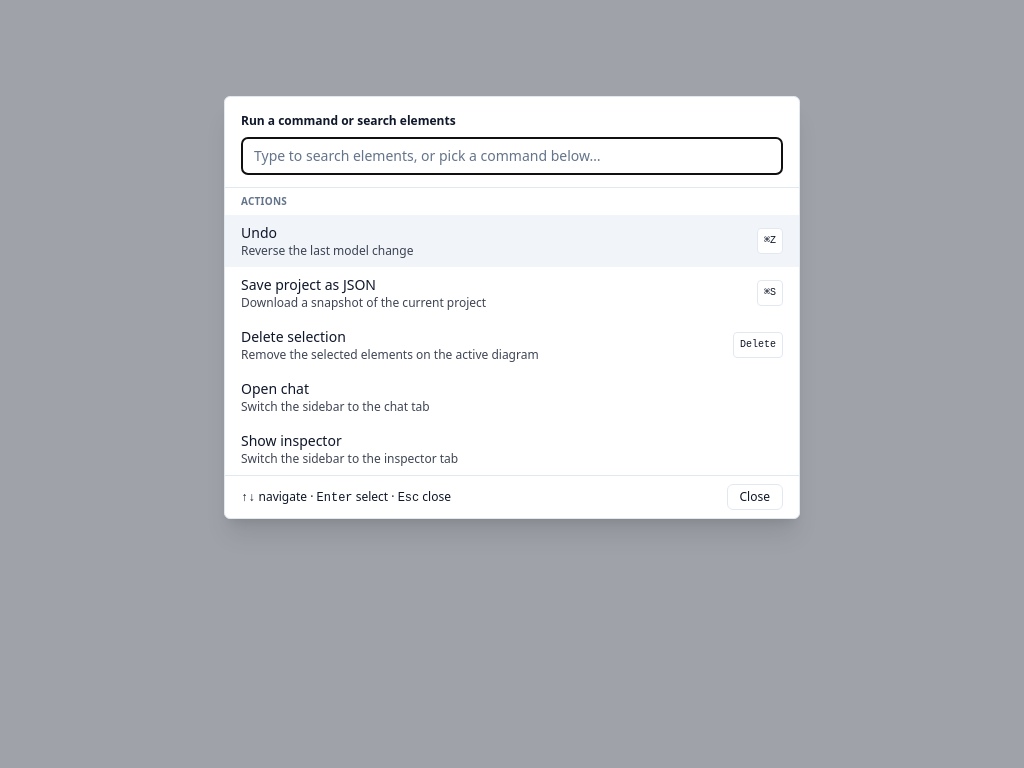
Test: <CommandPalette /> (T-13.05a/b) › typing "IBD" surfaces the selection-scoped IBD command in the unified ranked list
The width and height of the screenshot is (1024, 768).
Type "IBD" into the dropdown with test id "command-palette-input" at {"x": 512, "y": 156}, box [241,137,783,175]
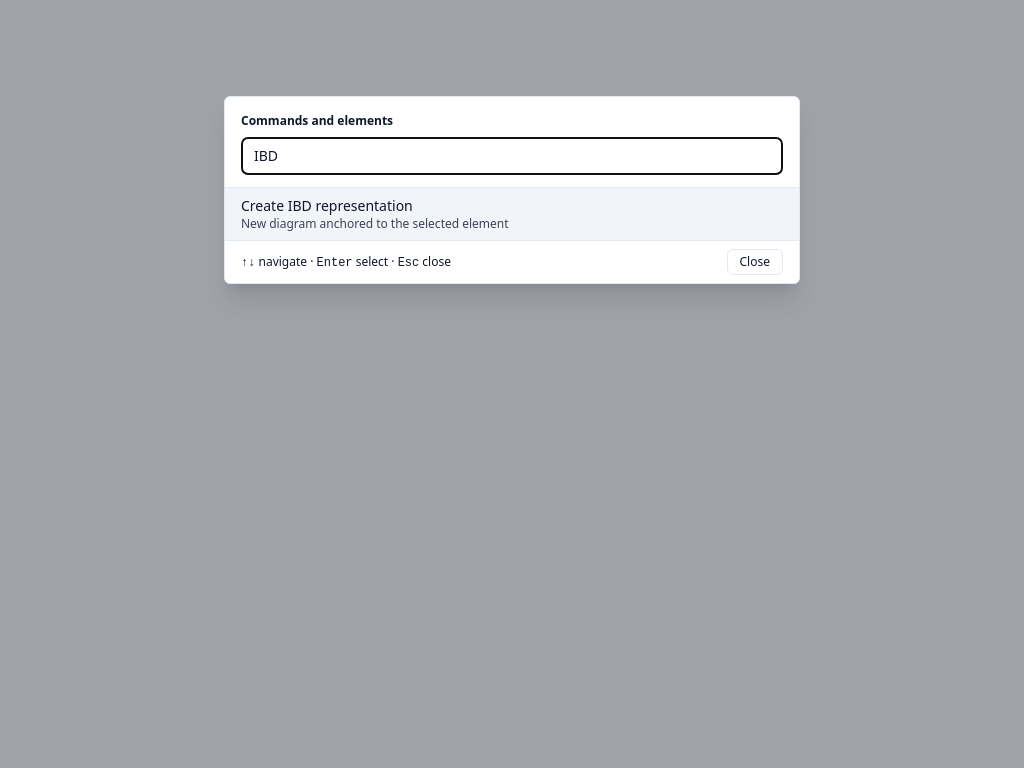
expect the option with test id "command-palette-command-selection.create-representation.ibd" is shown: met, box [225,188,799,240]
